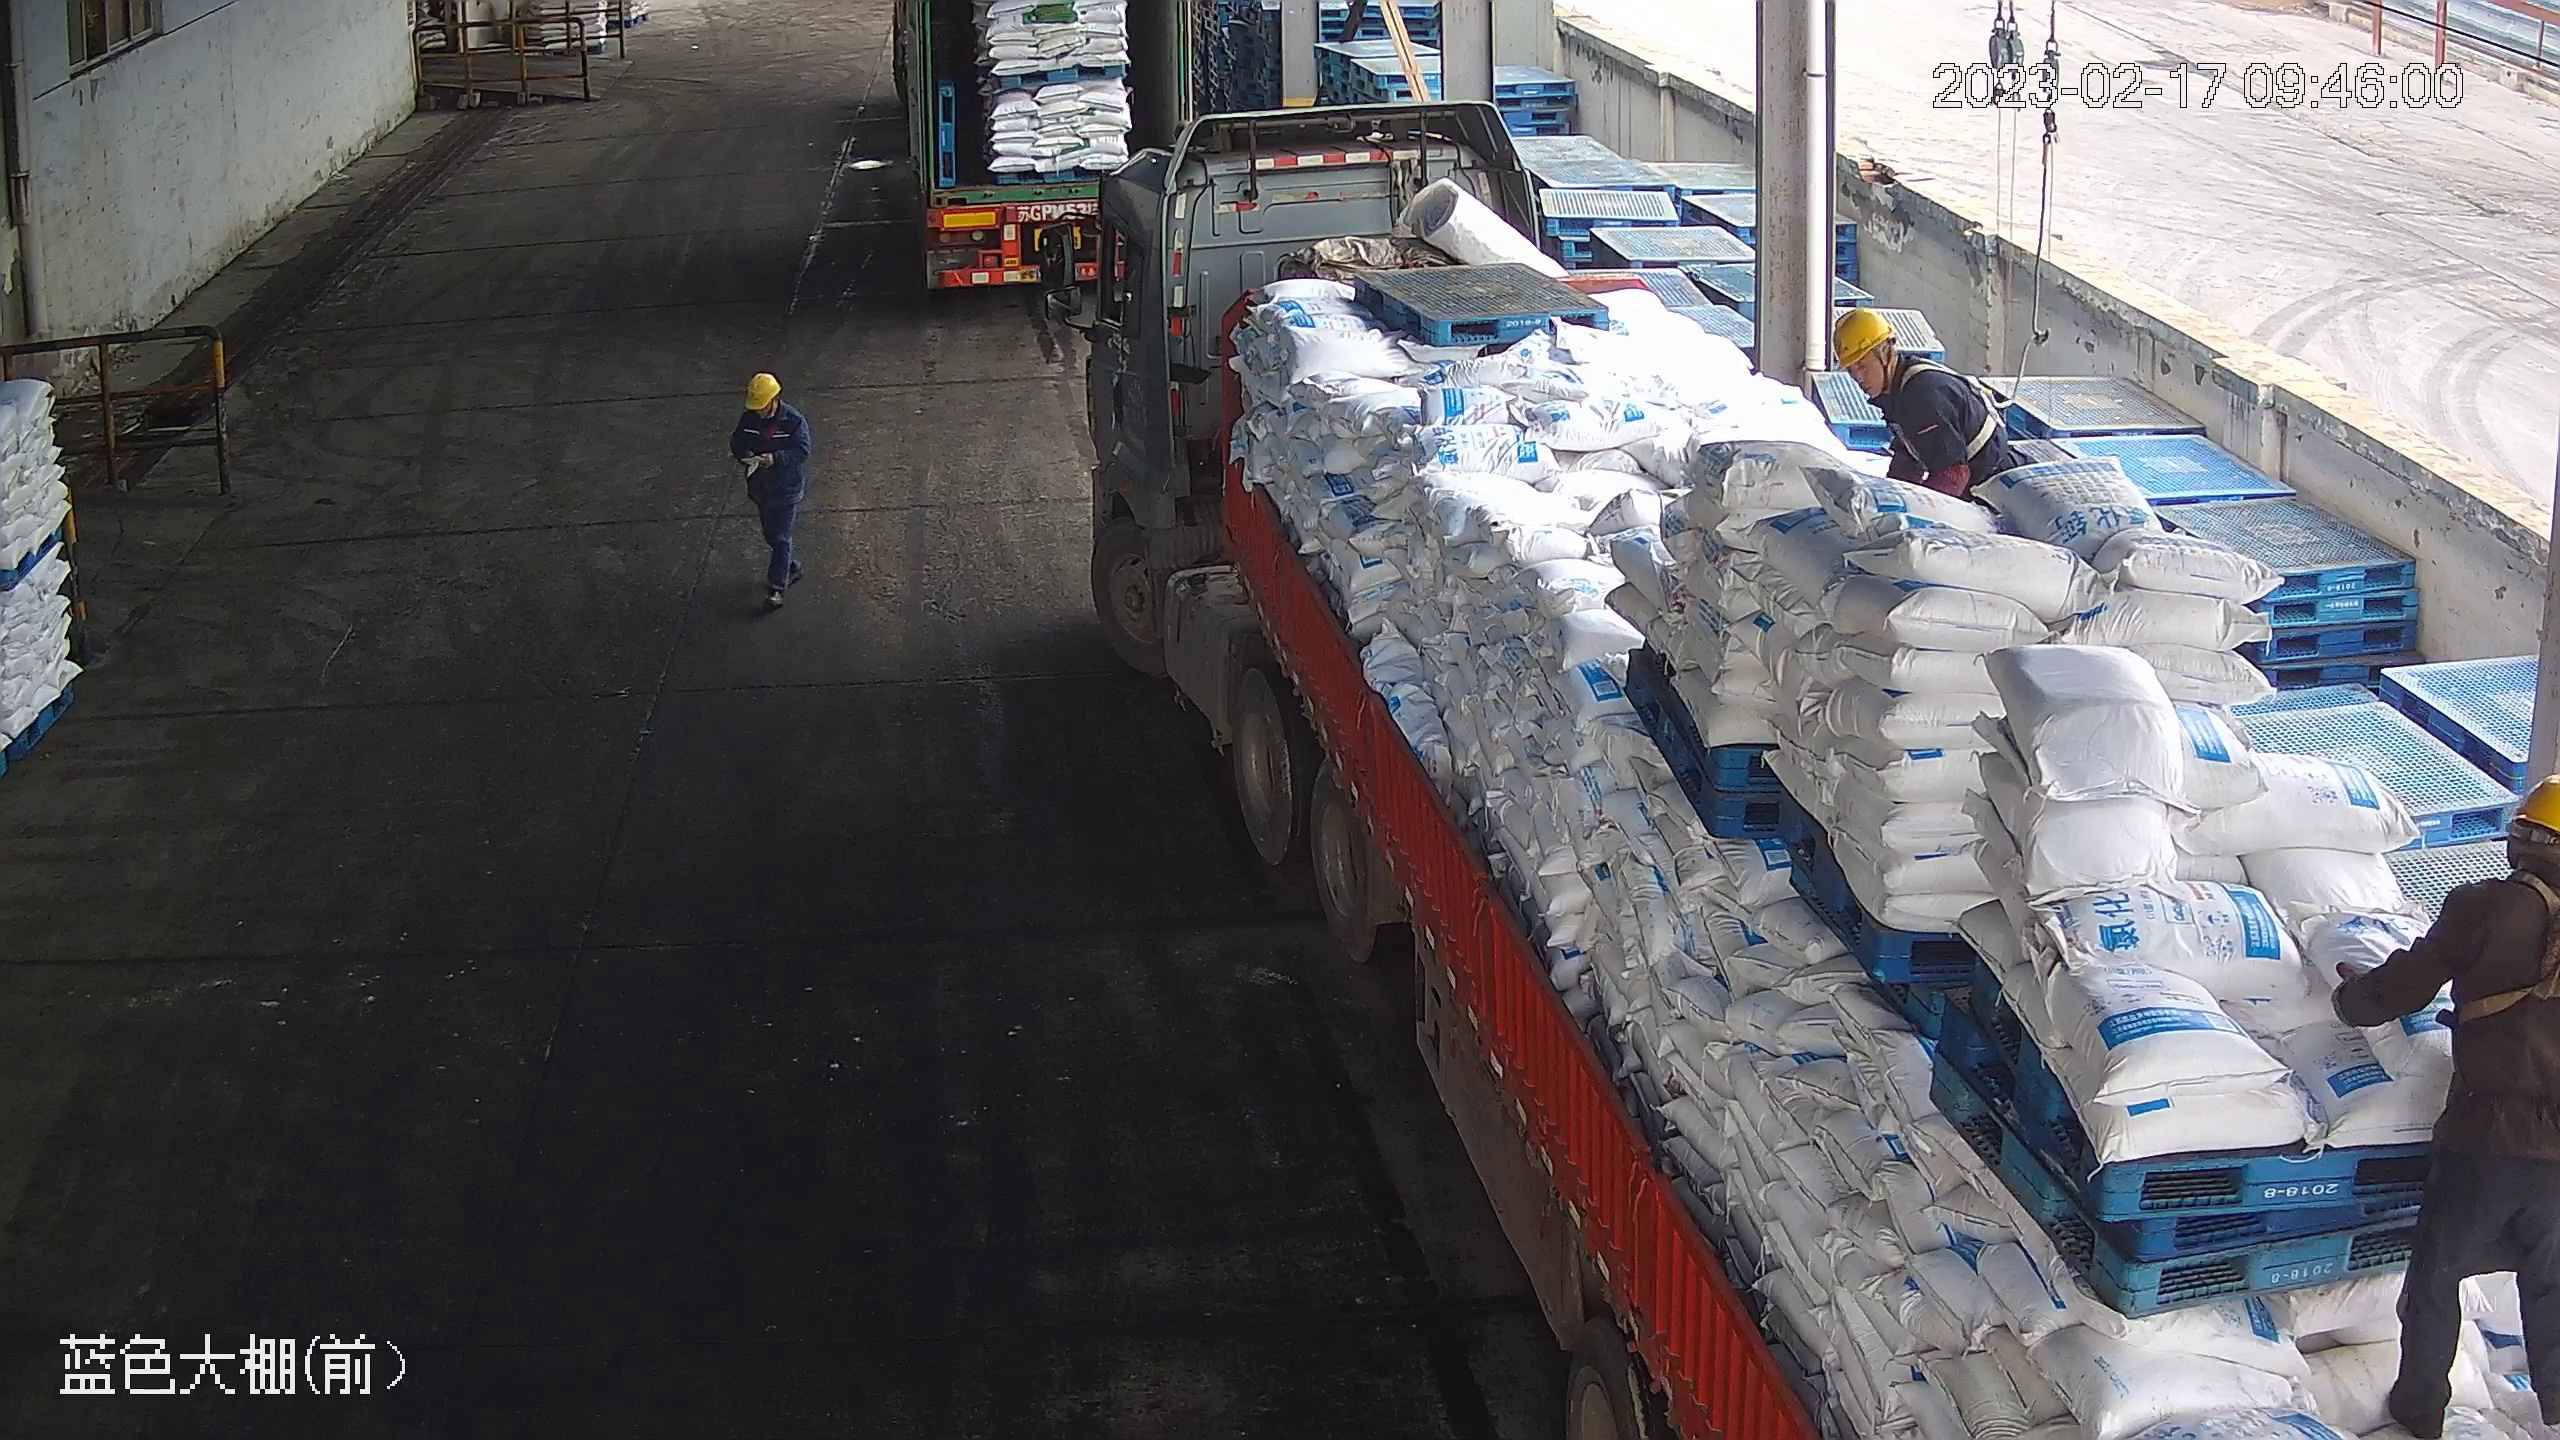belt: (2465, 876, 2559, 1017), (1902, 356, 2007, 464)
head: (2432, 772, 2559, 970), (1831, 306, 1971, 429), (730, 371, 807, 448)
helmet: (2509, 769, 2560, 857), (1828, 306, 1899, 370), (741, 371, 779, 408)
people: (2332, 766, 2560, 1433), (1833, 308, 2020, 516), (728, 370, 809, 608)
truck: (1068, 151, 2554, 1440), (892, 1, 1207, 324)
